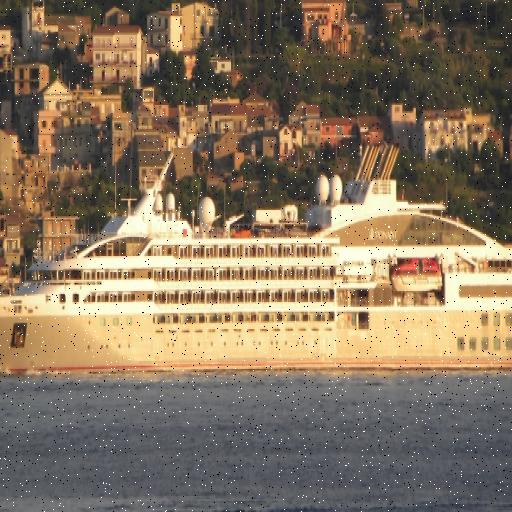cruises: (1, 147, 512, 384)
